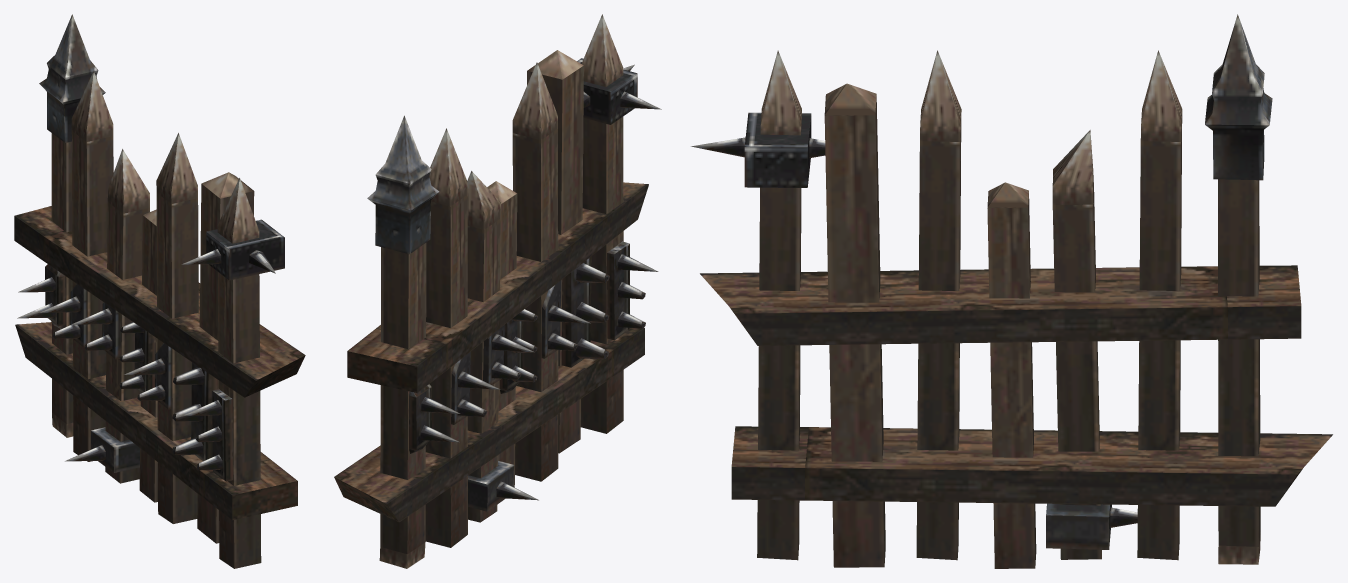
File: 4005_Item_zhalan_3.FBX
The picture shows the model from 3 angles, left to right: view 1: azimuth 30°, elevation 25°; view 2: azimuth 150°, elevation 25°; view 3: azimuth 270°, elevation 25°; orthographic projection. The views are drawn at different scales.
Parts seen in each view (by area): view 1: 4005_Item_zhalan_3; view 2: 4005_Item_zhalan_3; view 3: 4005_Item_zhalan_3.
Boxes of the visible parts, left/top/right/bottom form: 4005_Item_zhalan_3: left=14, top=14, right=305, bottom=568; 4005_Item_zhalan_3: left=334, top=14, right=661, bottom=568; 4005_Item_zhalan_3: left=691, top=14, right=1332, bottom=568.
Bounding box in the file's own units: 174 × 628 × 672.
